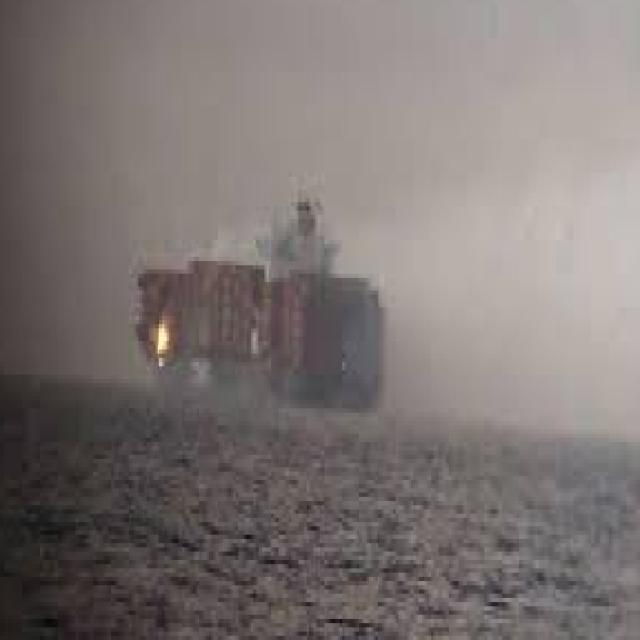cargoship: (129, 187, 394, 410)
